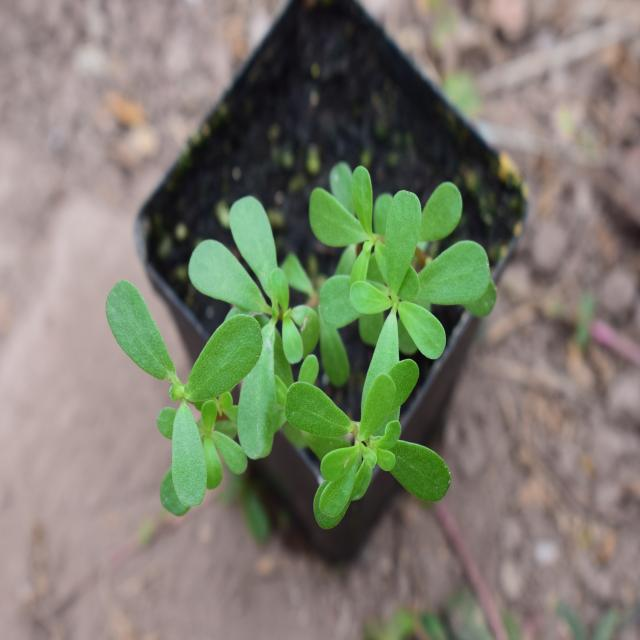purslane: (112, 161, 488, 524)
